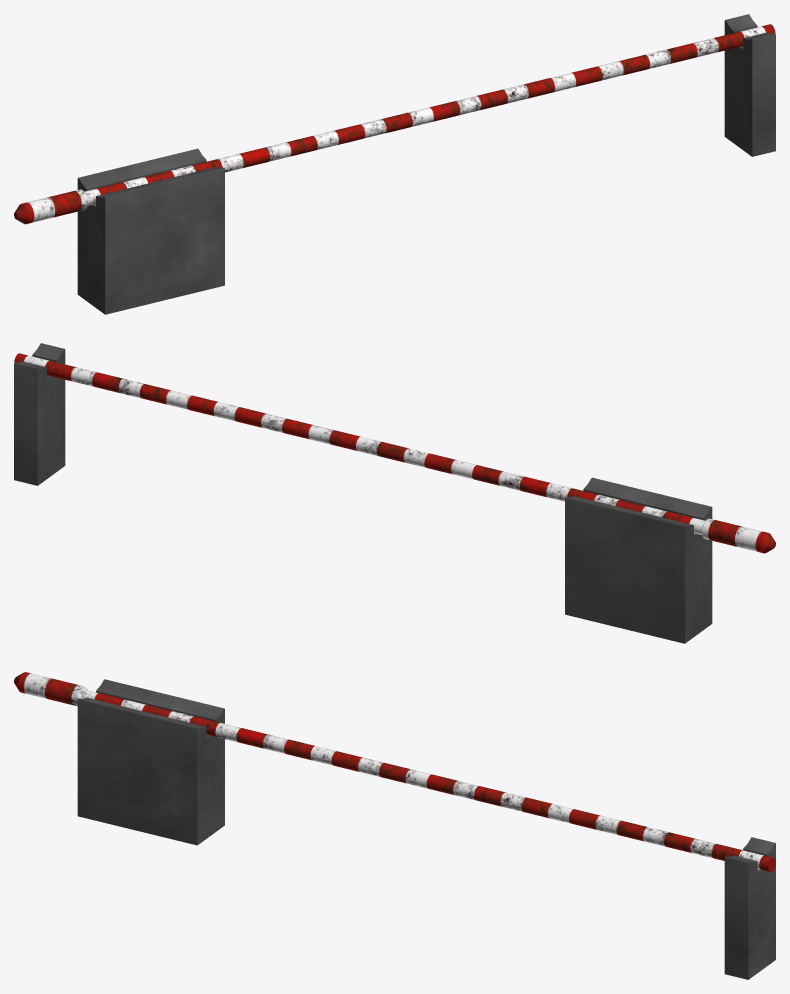
File: Barier.fbx
The picture shows the model from 3 angles, top to bottom: view 1: azimuth 30°, elevation 25°; view 2: azimuth 150°, elevation 25°; view 3: azimuth 330°, elevation 25°; orthographic projection.
Parts seen in each view (by area): view 1: Barier; view 2: Barier; view 3: Barier.
Boxes of the visible parts, <box> form: Barier: <box>14,14,775,314</box>; Barier: <box>14,343,775,643</box>; Barier: <box>14,672,775,979</box>.
Size of the model in its own units: 1261 by 187 by 79.51.
